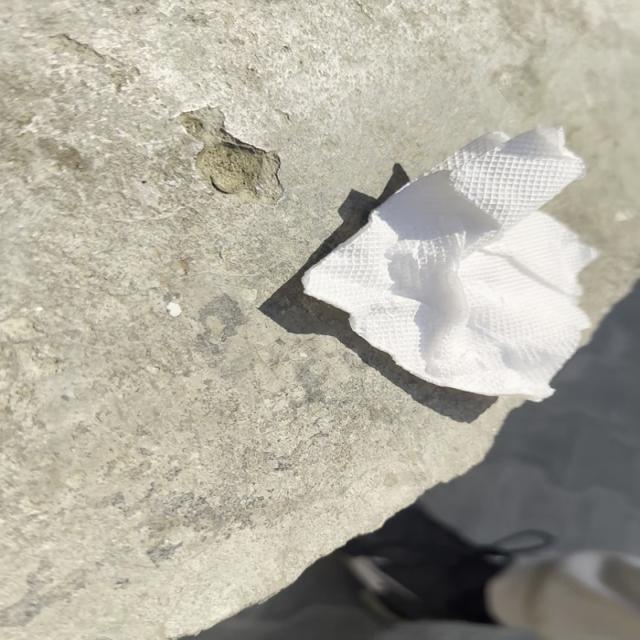tissue: (298, 129, 610, 406)
